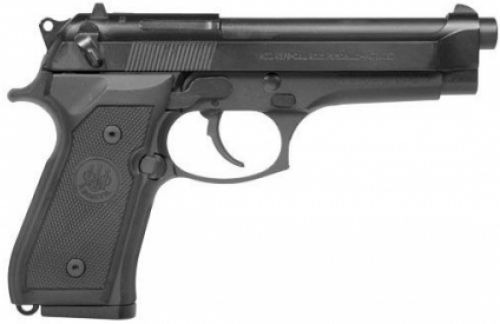gun: (4, 3, 500, 321)
